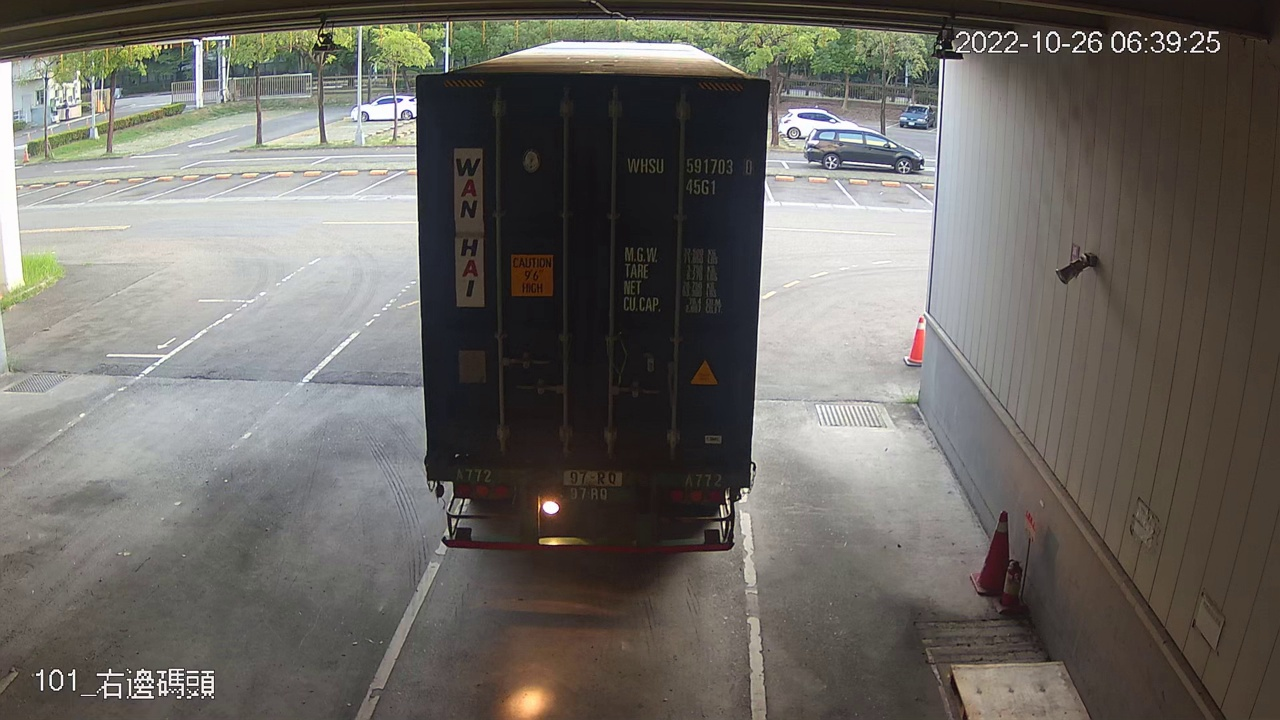container: (623, 149, 758, 201)
